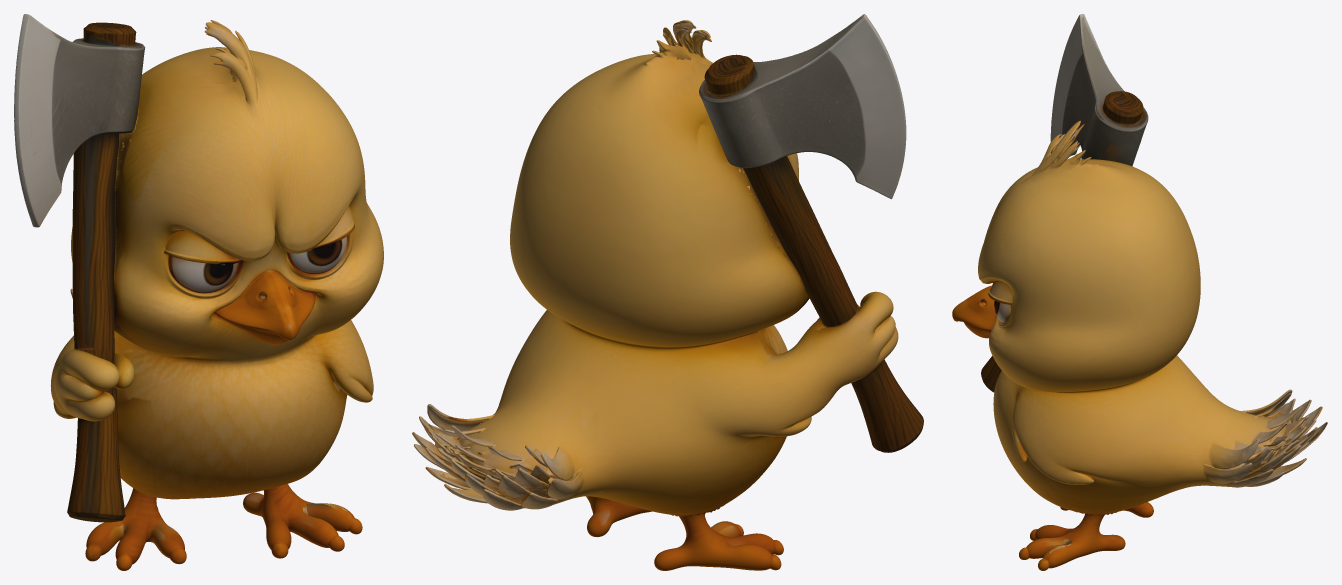
The model's file is wings_of_freedom-chicken-3460.high.glb.
The picture shows the model from 3 angles, left to right: view 1: azimuth 30°, elevation 25°; view 2: azimuth 150°, elevation 25°; view 3: azimuth 270°, elevation 25°; orthographic projection. The views are drawn at different scales.
Parts seen in each view (by area): view 1: texture_pbr_v128; view 2: texture_pbr_v128; view 3: texture_pbr_v128.
Boxes of the visible parts, box(x1,y1,x2,y2) form: texture_pbr_v128: box(14, 14, 383, 570); texture_pbr_v128: box(412, 14, 923, 570); texture_pbr_v128: box(952, 14, 1327, 570).
Bounding box in the file's own units: 0.6654 × 0.9982 × 0.7679.
Materials: 1 (1 with a texture image).
